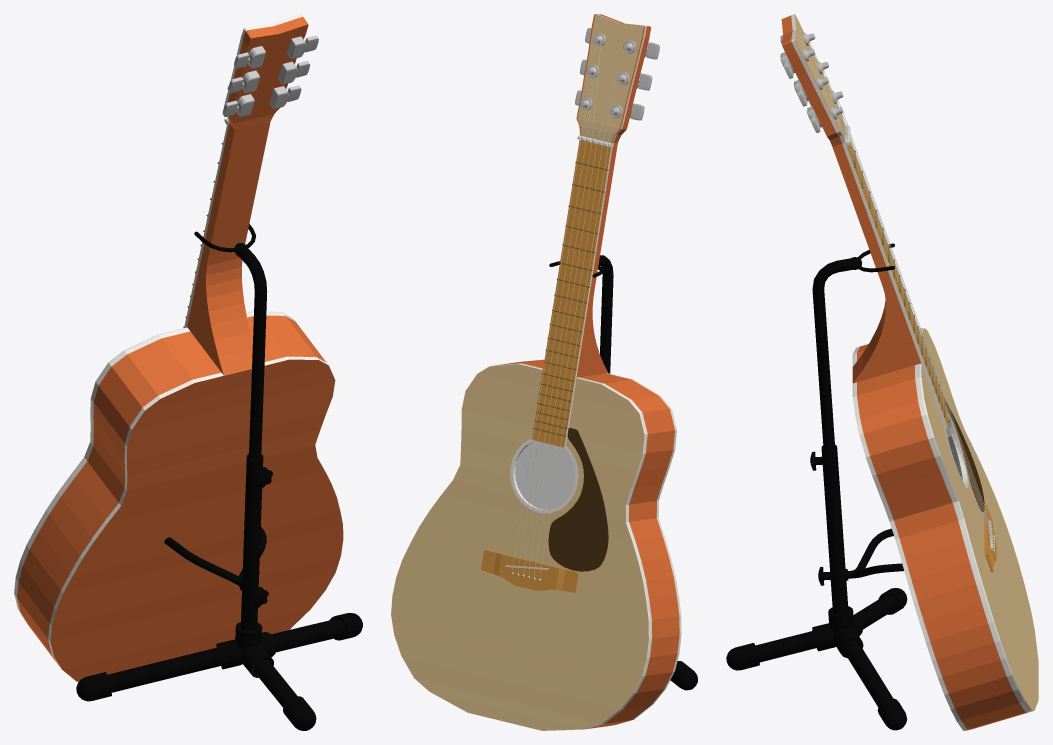
Rendered from gitaracc.fbx.
3 views of the same model, side by side, from view 1: azimuth 30°, elevation 25°; view 2: azimuth 150°, elevation 25°; view 3: azimuth 270°, elevation 25° (orthographic). The views are drawn at different scales.
Visible parts, largest first — view 1: Plane, objg_stand.002, Plane.003, Cube.002, Plane.001; view 2: Plane, Plane.001, Plane.003, Plane.005, Circle.001, Plane.002, objg_stand.002, Cube.009, Cube.002, Cylinder; view 3: Plane, objg_stand.002, Plane.003, Circle.001, Plane.001, Plane.005, Cube.009, Cube.002, Cylinder, Plane.002.
Part boxes in pixels (left/top/right/bottom): Plane: left=14, top=311, right=343, bottom=681; objg_stand.002: left=76, top=224, right=362, bottom=730; Plane.003: left=187, top=14, right=308, bottom=375; Cube.002: left=222, top=36, right=318, bottom=116; Plane.001: left=184, top=118, right=229, bottom=327; Plane: left=391, top=359, right=681, bottom=730; Plane.001: left=532, top=135, right=613, bottom=447; Plane.003: left=576, top=14, right=651, bottom=377; Plane.005: left=548, top=428, right=608, bottom=571; Circle.001: left=512, top=36, right=631, bottom=578; Plane.002: left=481, top=550, right=578, bottom=592; objg_stand.002: left=549, top=255, right=697, bottom=690; Cube.009: left=533, top=161, right=608, bottom=436; Cube.002: left=575, top=28, right=659, bottom=120; Cylinder: left=580, top=33, right=635, bottom=117; Plane: left=852, top=328, right=1038, bottom=730; objg_stand.002: left=726, top=243, right=907, bottom=730; Plane.003: left=781, top=14, right=921, bottom=383; Circle.001: left=806, top=35, right=993, bottom=544; Plane.001: left=842, top=125, right=947, bottom=427; Plane.005: left=943, top=397, right=984, bottom=511; Cube.009: left=854, top=150, right=945, bottom=417; Cube.002: left=780, top=35, right=821, bottom=132; Cylinder: left=802, top=32, right=843, bottom=119; Plane.002: left=984, top=505, right=996, bottom=571.
Bounding box in the file's own units: 207 × 495 × 207.
